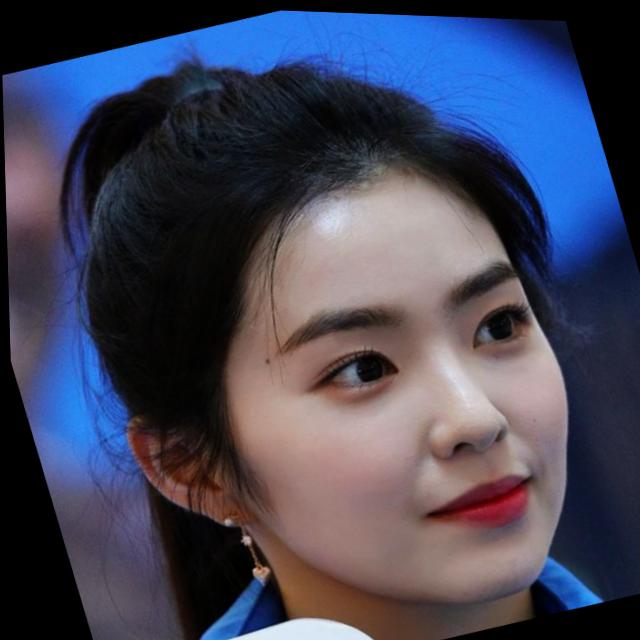face: (152, 124, 619, 640)
